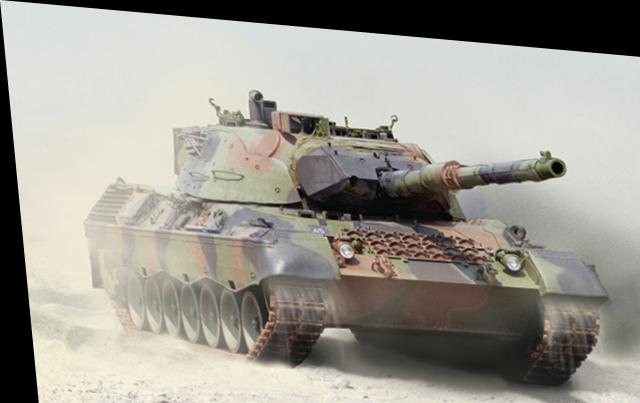tank: (67, 95, 618, 391)
